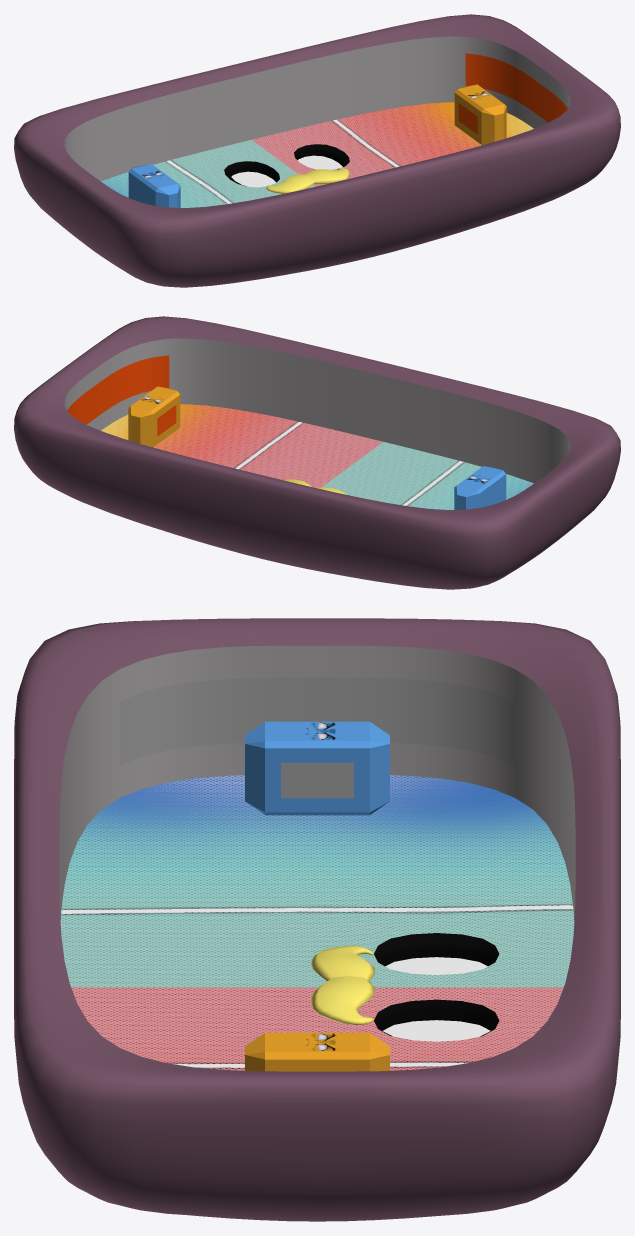
File: Arena Pong.fbx
The picture shows the model from 3 angles, top to bottom: view 1: azimuth 30°, elevation 25°; view 2: azimuth 150°, elevation 25°; view 3: azimuth 270°, elevation 25°; orthographic projection. The views are drawn at different scales.
Parts seen in each view (by area): view 1: Arena_Pong, Player_2, Player_1, Mustache_Mesh; view 2: Arena_Pong, Player_2, Player_1; view 3: Arena_Pong, Player_1, Player_2, Mustache_Mesh.
Boxes of the visible parts, x1,y1,x2,y2 form: Arena_Pong: [14, 14, 620, 287]; Player_2: [454, 84, 506, 145]; Player_1: [128, 164, 180, 207]; Mustache_Mesh: [266, 168, 349, 193]; Arena_Pong: [14, 316, 620, 589]; Player_2: [128, 386, 180, 447]; Player_1: [454, 466, 506, 509]; Arena_Pong: [14, 618, 620, 1221]; Player_1: [245, 721, 389, 815]; Player_2: [245, 1032, 389, 1071]; Mustache_Mesh: [311, 945, 374, 1024].
Size of the model in its own units: 70.88 by 16.21 by 38.57.
